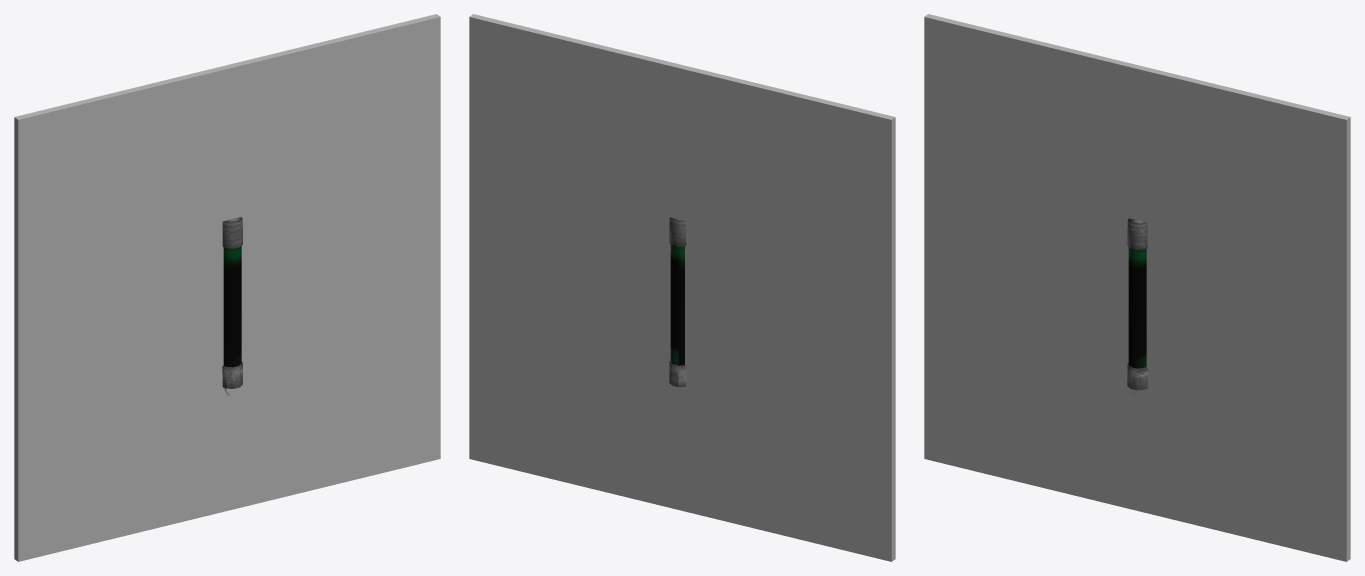
File: hud_object_glowstick.dae
3 views of the same model, side by side, from view 1: azimuth 30°, elevation 25°; view 2: azimuth 150°, elevation 25°; view 3: azimuth 330°, elevation 25° (orthographic).
Parts seen in each view (by area): view 1: _bb_glowstick_halo_cp, noshadow_pCylinder1; view 2: _bb_glowstick_halo_cp, noshadow_pCylinder1; view 3: _bb_glowstick_halo_cp, noshadow_pCylinder1.
Boxes of the visible parts, left/top/right/bottom form: _bb_glowstick_halo_cp: left=14, top=14, right=440, bottom=561; noshadow_pCylinder1: left=222, top=217, right=242, bottom=395; _bb_glowstick_halo_cp: left=469, top=14, right=895, bottom=561; noshadow_pCylinder1: left=669, top=217, right=686, bottom=387; _bb_glowstick_halo_cp: left=924, top=14, right=1350, bottom=561; noshadow_pCylinder1: left=1127, top=218, right=1147, bottom=395.
Bounding box in the file's own units: 0.362 × 0.362 × 0.0168.
